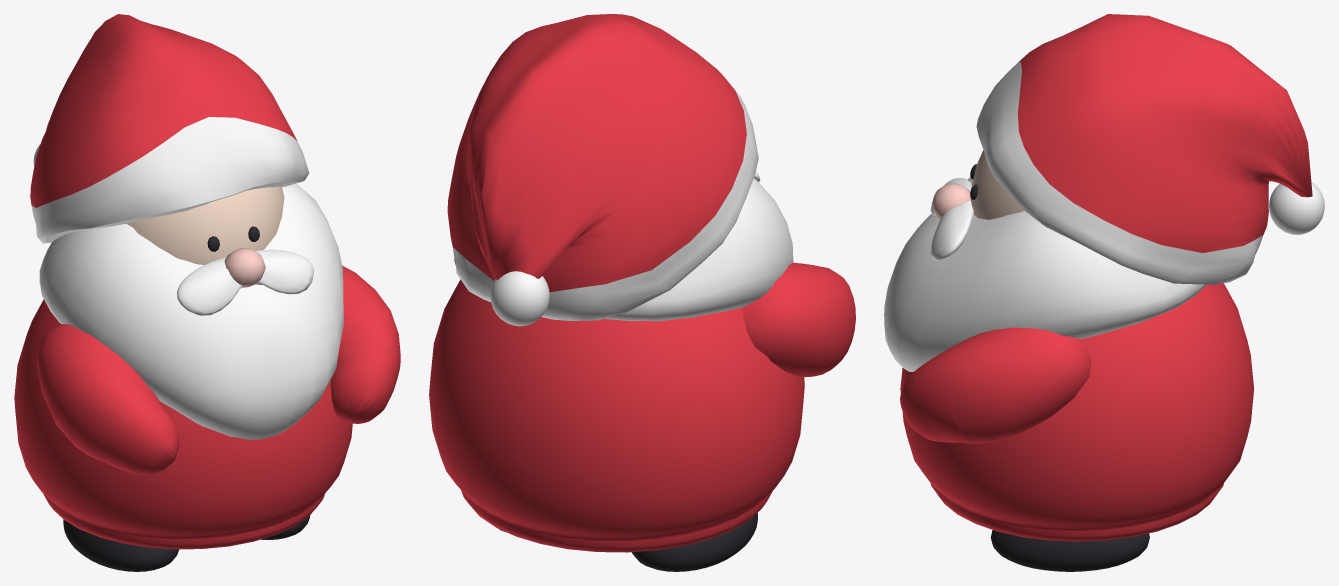
File: classic.glb
The picture shows the model from 3 angles, left to right: view 1: azimuth 30°, elevation 25°; view 2: azimuth 150°, elevation 25°; view 3: azimuth 270°, elevation 25°; orthographic projection. The views are drawn at different scales.
Visible parts, largest first — view 1: classic_red, classic_white, classic_skin, classic_black, classic_nose; view 2: classic_red, classic_white, classic_black; view 3: classic_red, classic_white, classic_black, classic_skin, classic_nose.
Part boxes in pixels (box(x1,y1,x2,y2)): classic_red: box(14, 14, 400, 549); classic_white: box(31, 117, 343, 439); classic_skin: box(126, 187, 284, 264); classic_black: box(63, 226, 310, 571); classic_nose: box(224, 248, 265, 287); classic_red: box(429, 14, 855, 552); classic_white: box(452, 77, 793, 326); classic_black: box(497, 513, 757, 571); classic_red: box(900, 14, 1312, 541); classic_white: box(884, 61, 1324, 371); classic_black: box(970, 164, 1149, 571); classic_skin: box(970, 150, 1023, 219); classic_nose: box(931, 183, 970, 219).
Size of the model in its own units: 2.14 by 2.98 by 2.37.
